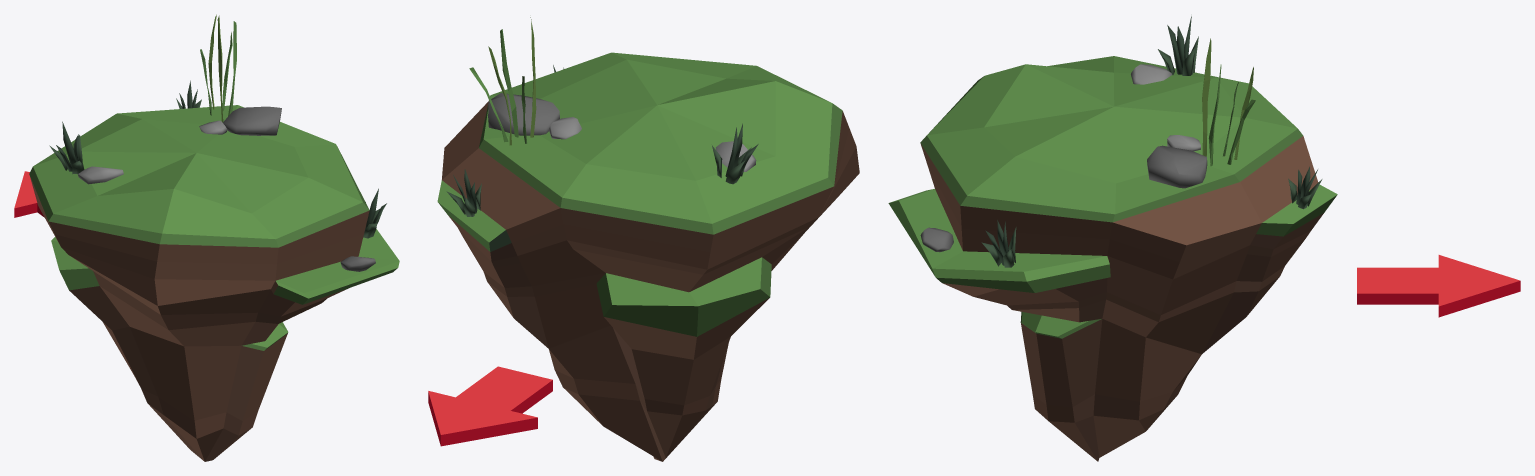
The model's file is Horizontal_Platform_Pirates.glb.
The picture shows the model from 3 angles, left to right: view 1: azimuth 30°, elevation 25°; view 2: azimuth 150°, elevation 25°; view 3: azimuth 270°, elevation 25°; orthographic projection. The views are drawn at different scales.
Parts seen in each view (by area): view 1: PiratePlatform_01, Plane.002; view 2: PiratePlatform_01, Plane.002; view 3: PiratePlatform_01, Plane.002.
Boxes of the visible parts, box(x1,y1,x2,y2) form: PiratePlatform_01: box(29, 14, 399, 461); Plane.002: box(14, 171, 44, 217); PiratePlatform_01: box(437, 17, 859, 461); Plane.002: box(428, 366, 552, 446); PiratePlatform_01: box(888, 16, 1337, 461); Plane.002: box(1357, 255, 1520, 317).
Size of the model in its own units: 2.22 by 2.84 by 3.57.
Materials: 2 (2 with a texture image).
